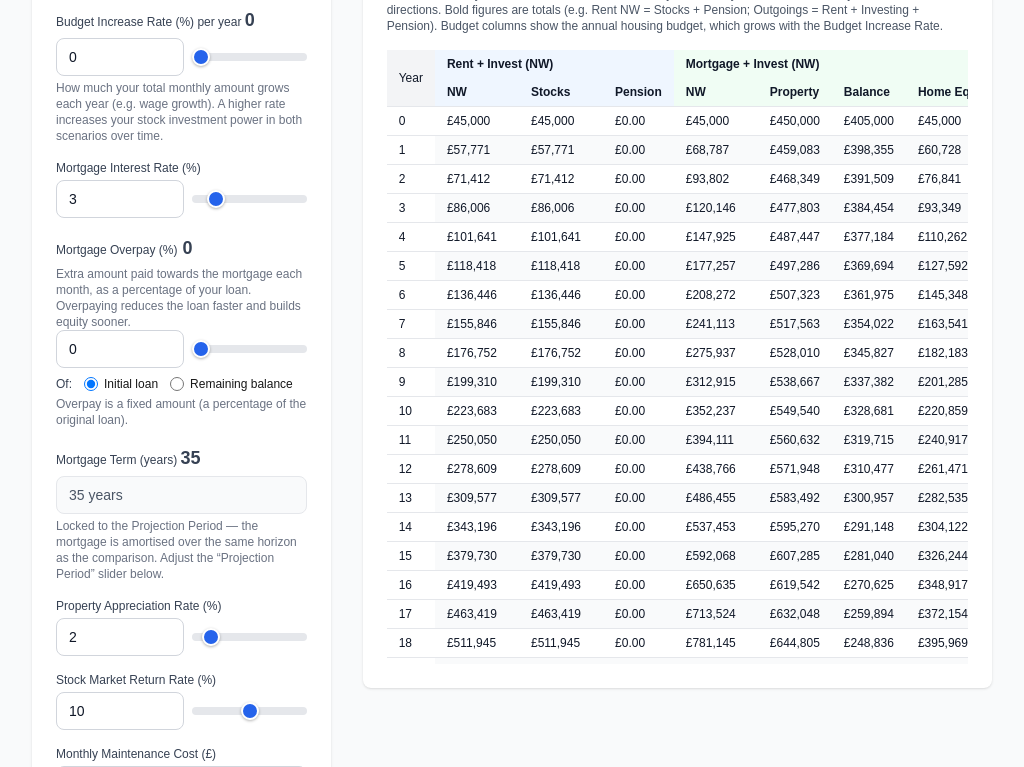
Test case: RentVsBuyCalculator component › switches the overpay mode radio to remaining when selected
(page scrolled)
Click the radio button labelled "Remaining balance" at {"x": 177, "y": 384}, box [170,377,184,391]
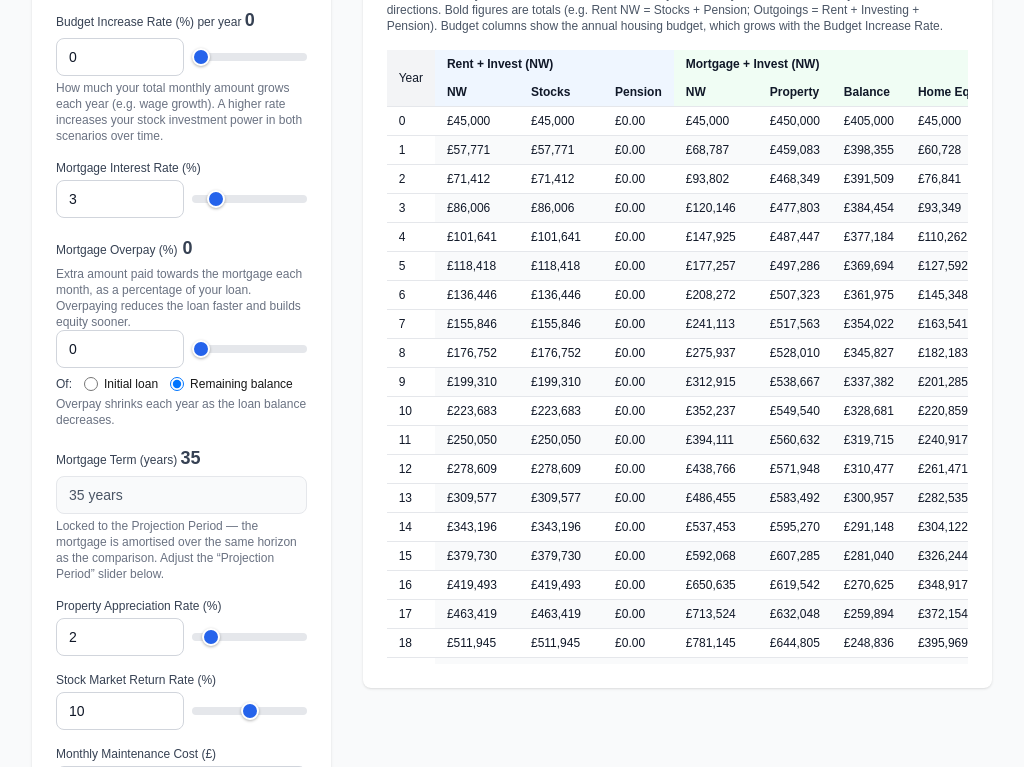
Now the radio button labelled "Remaining balance" is checked, box [170,377,184,391]
Now the radio button labelled "Initial loan" is not checked, box [84,377,98,391]
